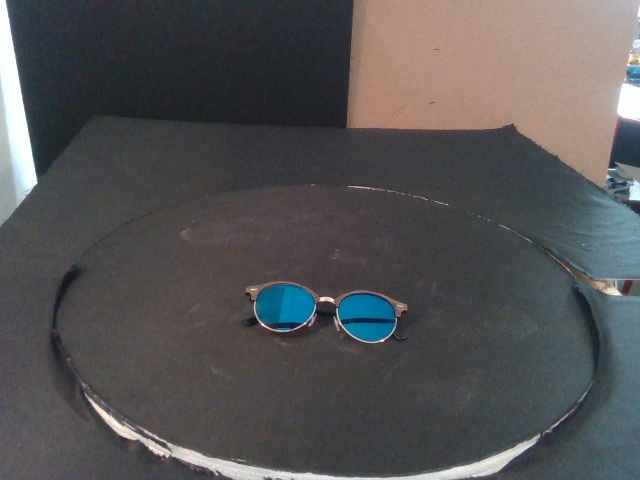glasses: (246, 280, 410, 344)
